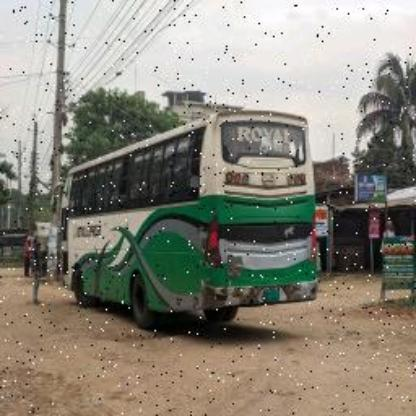bus: (48, 106, 322, 317)
